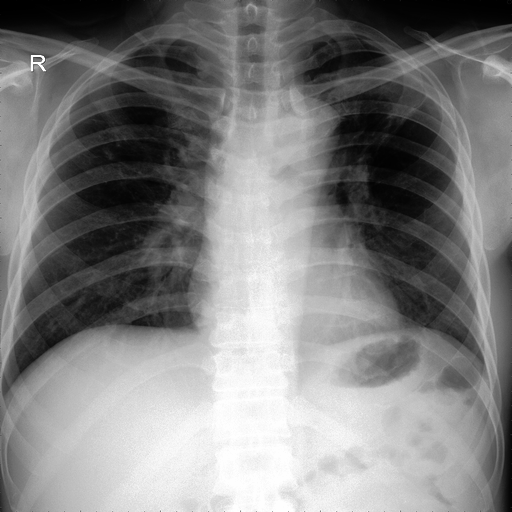Consolidation: (276, 97, 338, 173)
Pneumothorax: (338, 75, 426, 149), (89, 115, 128, 165)
